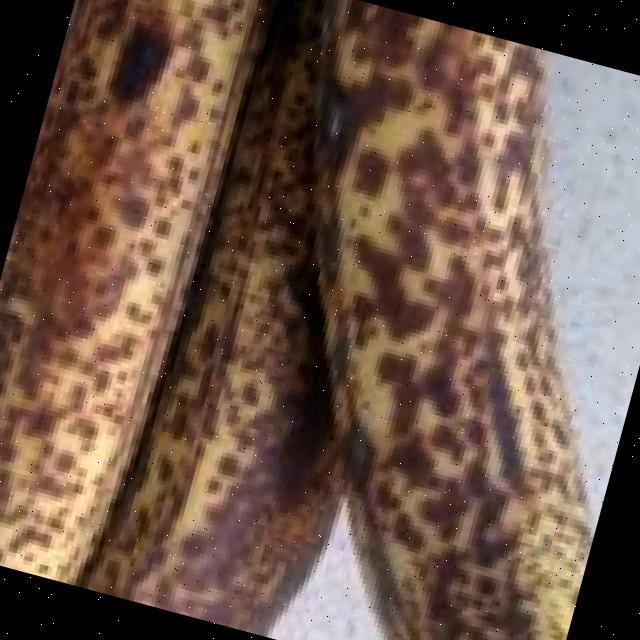Bad_Banana-0 day: (0, 0, 591, 640)
